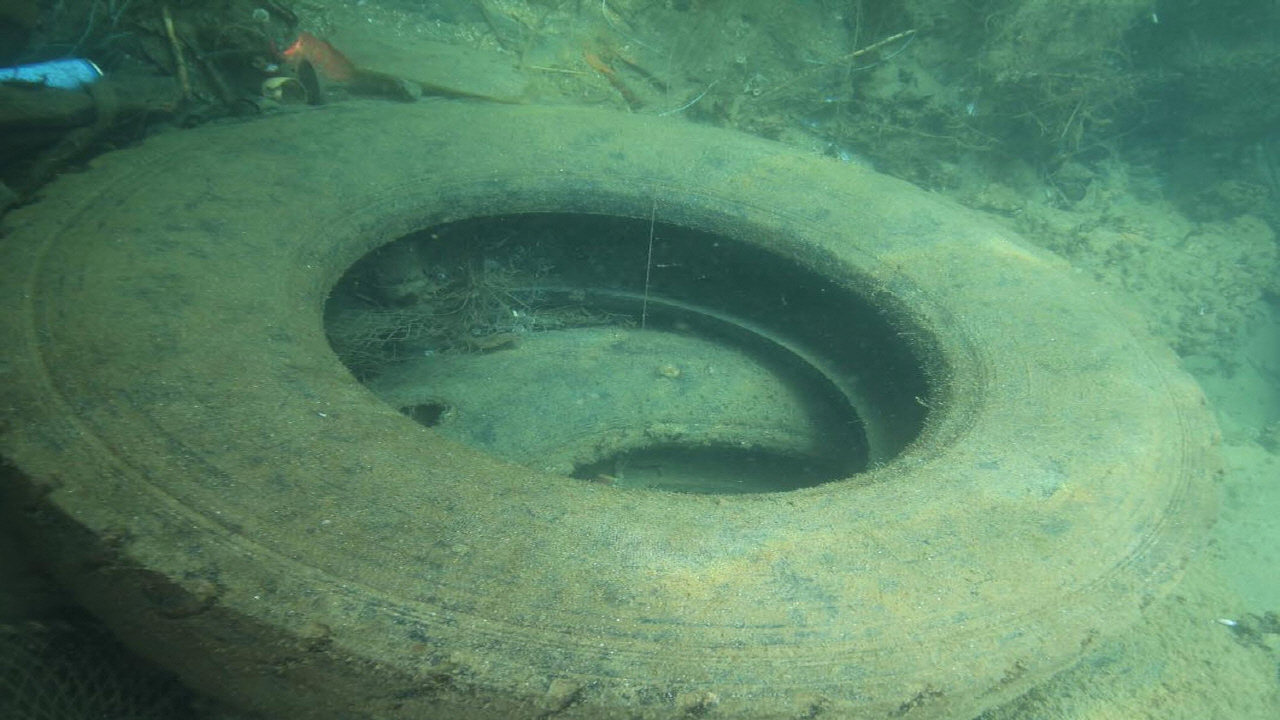tire: (0, 98, 1211, 720)
